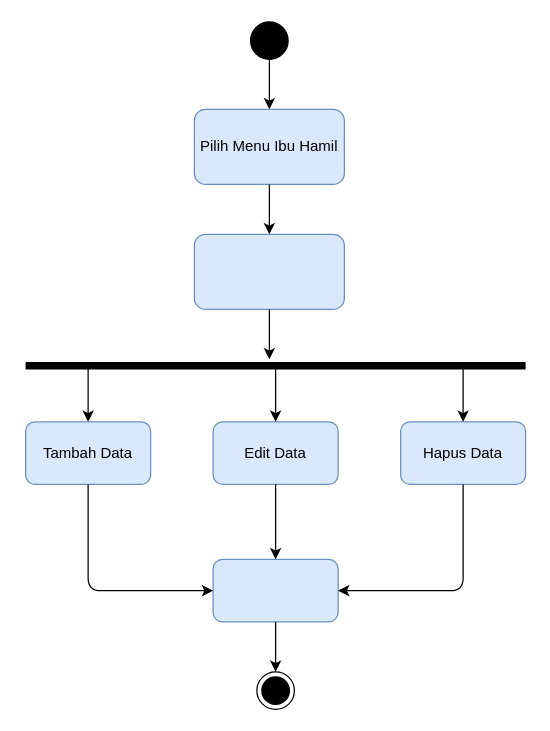
Some shapes in this 550 by 731 pixel diagram are drawn without their labels. Each missing label, with the box of its shape:
Simpan ke DB: (212, 558, 338, 622)
Tampilkan List Ibu Hamil: (193, 233, 344, 309)
